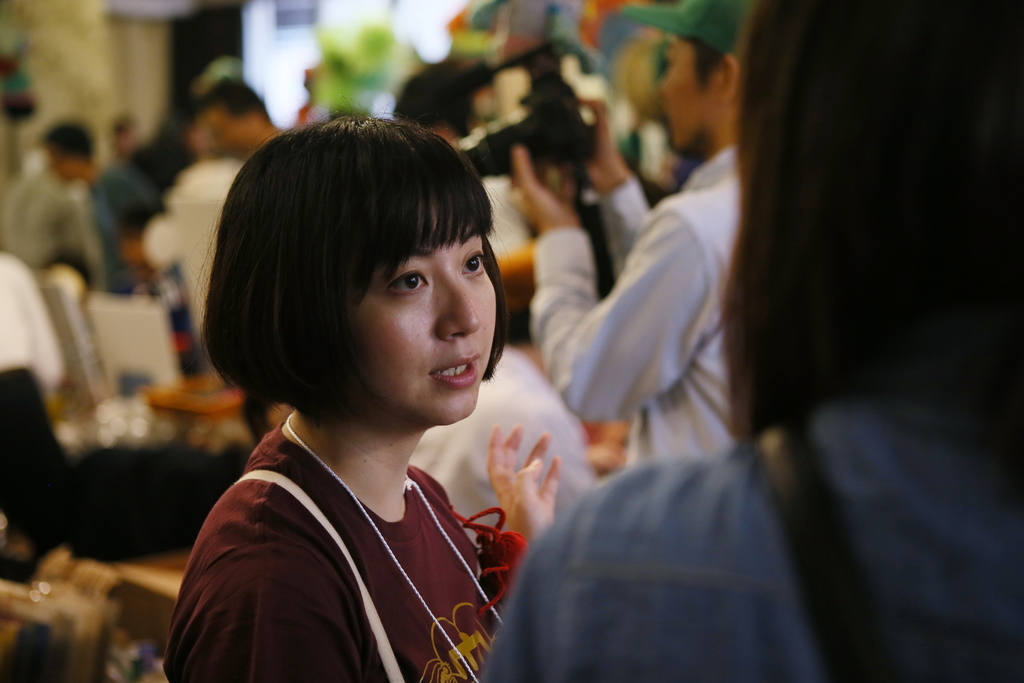Human_hand: (481, 432, 557, 537), (506, 145, 577, 239), (569, 93, 623, 186)
